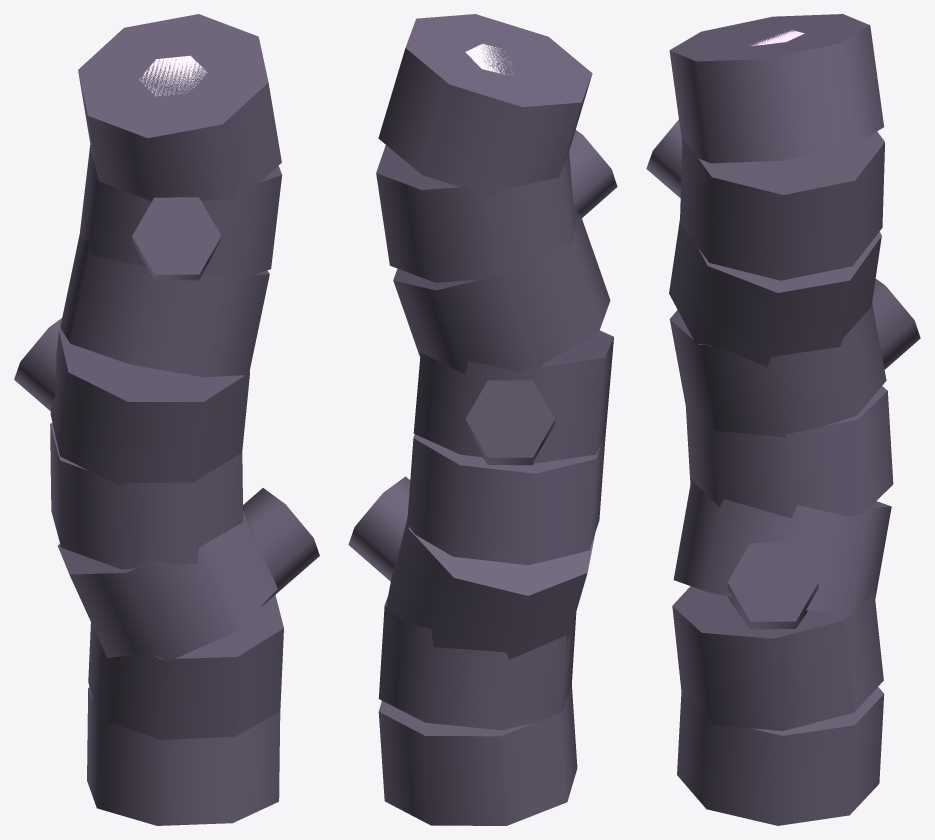
File: fulgurite.glb
3 renders of one model, left to right at view 1: azimuth 30°, elevation 25°; view 2: azimuth 150°, elevation 25°; view 3: azimuth 270°, elevation 25°, orthographic.
Parts seen in each view (by area): view 1: Mesh; view 2: Mesh; view 3: Mesh.
Boxes of the visible parts, x1,y1,x2,y2 form: Mesh: (14, 14, 319, 825); Mesh: (348, 14, 617, 825); Mesh: (646, 14, 920, 825).
Size of the model in its own units: 0.281 by 0.8317 by 0.2708.
